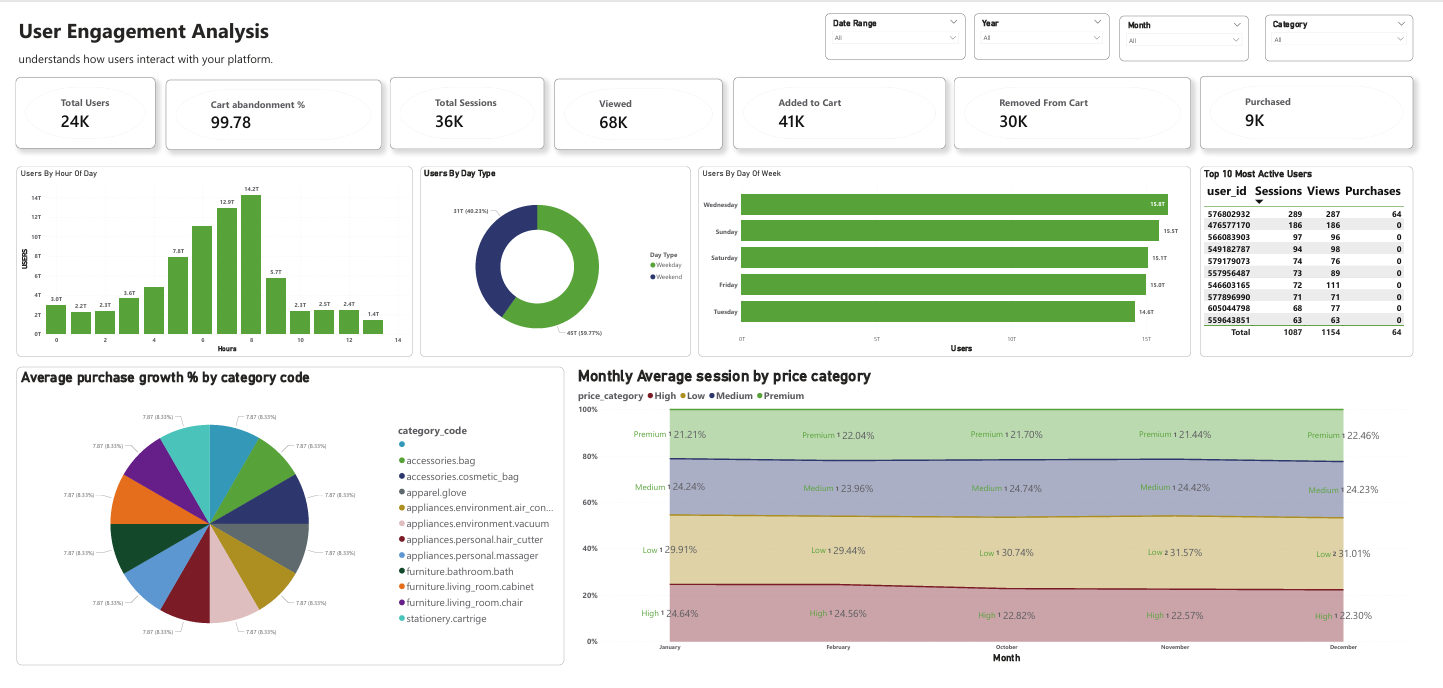

The dashboard page shown, as its layout file describes it:
{"tool":"powerbi","page":{"name":"User Engagement Analysis","canvas":[3000,1400],"ordinal":1},"visuals":[{"type":"textbox","box":[9.9,0,588.6,120],"z":0},{"type":"slicer","fields":{"Values":["fact_user_events.event_time"]},"box":[1717.5,0,296.4,97.9],"z":1000},{"type":"slicer","fields":{"Values":["fact_user_events.Year"]},"box":[2032.5,0,285.8,97.9],"z":2000},{"type":"slicer","fields":{"Values":["fact_user_events.month_name"]},"box":[2339.5,5.3,272.6,95.3],"z":3000},{"type":"slicer","fields":{"Values":["fact_user_events.category_code"]},"box":[2646.5,2.6,312.3,97.9],"z":4000},{"type":"cardVisual","title":"TOTAL VIEWS","fields":{"Data":["fact_user_events.Total Users"]},"box":[9,135,295.4,150],"z":5000},{"type":"cardVisual","title":"TOTAL VIEWS","fields":{"Data":["fact_user_events.Total Sessions"]},"box":[799.2,135,325.5,150.8],"z":6000},{"type":"cardVisual","title":"TOTAL VIEWS","fields":{"Data":["Sum(fact_user_events.is_cart)"]},"box":[1524.4,135,447.3,150.8],"z":7000},{"type":"cardVisual","title":"TOTAL VIEWS","fields":{"Data":["Sum(fact_user_events.is_view)"]},"box":[1145.9,137.6,354.6,150.8],"z":8000},{"type":"cardVisual","title":"TOTAL VIEWS","fields":{"Data":["Sum(fact_user_events.is_purchase)"]},"box":[2508.8,132.3,449.9,153.5],"z":9000},{"type":"clusteredColumnChart","title":"Users By Hour Of Day","fields":{"Category":["fact_user_events.hour"],"Y":["Sum(fact_user_events.user_id)"]},"box":[10.6,322.9,836.3,402.3],"z":10000},{"type":"donutChart","title":"Users By Day Type","fields":{"Y":["Sum(fact_user_events.user_id)"],"Category":["fact_user_events.weekdayVSweekend"]},"box":[862.7,322.9,571.6,402.3],"z":11000},{"type":"cardVisual","title":"TOTAL VIEWS","fields":{"Data":["Sum(fact_user_events.is_removed)"]},"box":[1990.1,135,500.2,150.8],"z":12000},{"type":"clusteredBarChart","title":"Users By Day Of Week","fields":{"Category":["fact_user_events.day_name"],"Y":["Sum(fact_user_events.user_id)"]},"box":[1450.3,322.9,1040.1,402.3],"z":13000},{"type":"cardVisual","title":"TOTAL VIEWS","fields":{"Data":["fact_user_events.Cart abandonment %"]},"box":[325.5,140.3,455.2,148.2],"z":14000},{"type":"tableEx","title":"Top 10 Most Active Users","fields":{"Values":["fact_user_events.user_id","fact_user_events.Total Sessions","fact_user_events.Total Views","fact_user_events.Total Purchase"]},"box":[2508.8,322.9,449.9,402.3],"z":15000},{"type":"pieChart","title":"Average purchase growth % by category code","fields":{"Category":["fact_user_events.category_code"],"Y":["Avg(monthly_kpi_summary.purchase_growth_pct)"]},"box":[10.6,746.3,1156.5,629.9],"z":16000},{"type":"hundredPercentStackedAreaChart","title":"Monthly Average session  by price category","fields":{"Series":["fact_user_events.price_category"],"Category":["fact_user_events.month_name"],"Y":["fact_user_events.Avg sessions"]},"box":[1190.9,746.3,1767.8,629.9],"z":17000}]}

Visuals, with their boxes in screenshot pixels (x1, y1, x2, y2), scaled from the page's 3000x1400 canvas onto the 1443x688 screenshot:
textbox: l=5, t=0, r=288, b=59
slicer - fact_user_events.event_time: l=826, t=0, r=969, b=48
slicer - fact_user_events.Year: l=978, t=0, r=1115, b=48
slicer - fact_user_events.month_name: l=1125, t=3, r=1256, b=49
slicer - fact_user_events.category_code: l=1273, t=1, r=1423, b=49
"TOTAL VIEWS" cardVisual: l=4, t=66, r=146, b=140
"TOTAL VIEWS" cardVisual: l=384, t=66, r=541, b=140
"TOTAL VIEWS" cardVisual: l=733, t=66, r=948, b=140
"TOTAL VIEWS" cardVisual: l=551, t=68, r=722, b=142
"TOTAL VIEWS" cardVisual: l=1207, t=65, r=1423, b=140
"Users By Hour Of Day" clusteredColumnChart: l=5, t=159, r=407, b=356
"Users By Day Type" donutChart: l=415, t=159, r=690, b=356
"TOTAL VIEWS" cardVisual: l=957, t=66, r=1198, b=140
"Users By Day Of Week" clusteredBarChart: l=698, t=159, r=1198, b=356
"TOTAL VIEWS" cardVisual: l=157, t=69, r=376, b=142
"Top 10 Most Active Users" tableEx: l=1207, t=159, r=1423, b=356
"Average purchase growth % by category code" pieChart: l=5, t=367, r=561, b=676
"Monthly Average session  by price category" hundredPercentStackedAreaChart: l=573, t=367, r=1423, b=676
